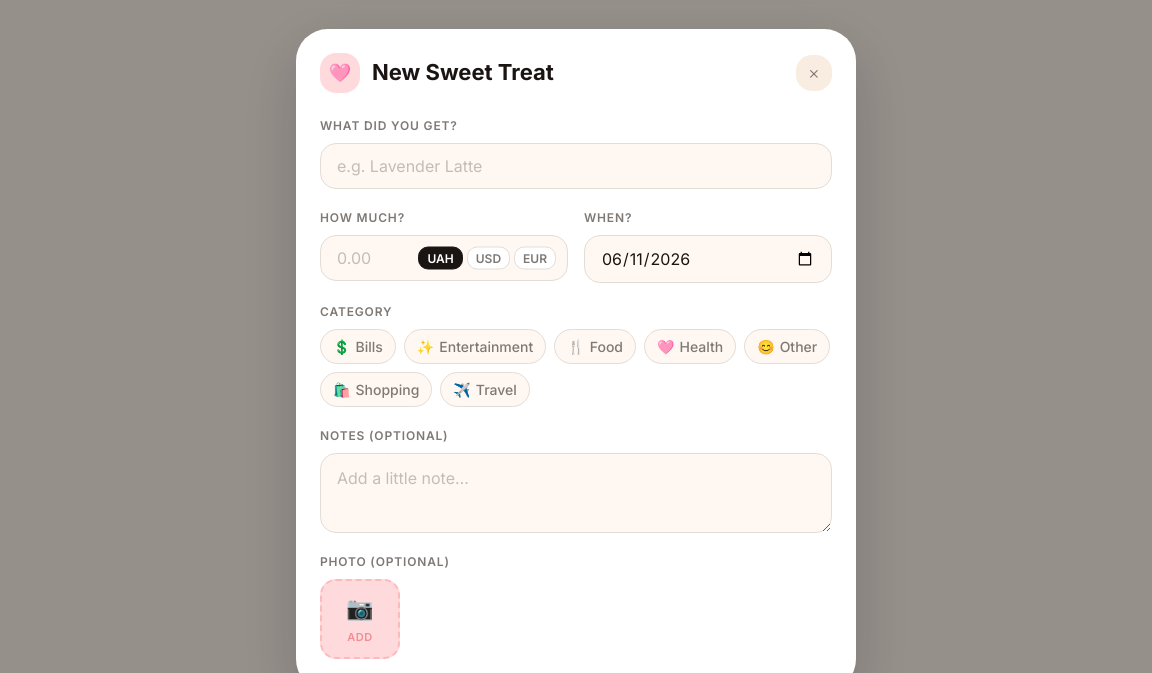
AddExpenseModal › shows validation error when amount is invalid
Type "Coffee" into the field labelled "What did you get?".
click(576, 166); type("Coffee")  # box [320,143,832,189]
(page scrolled)
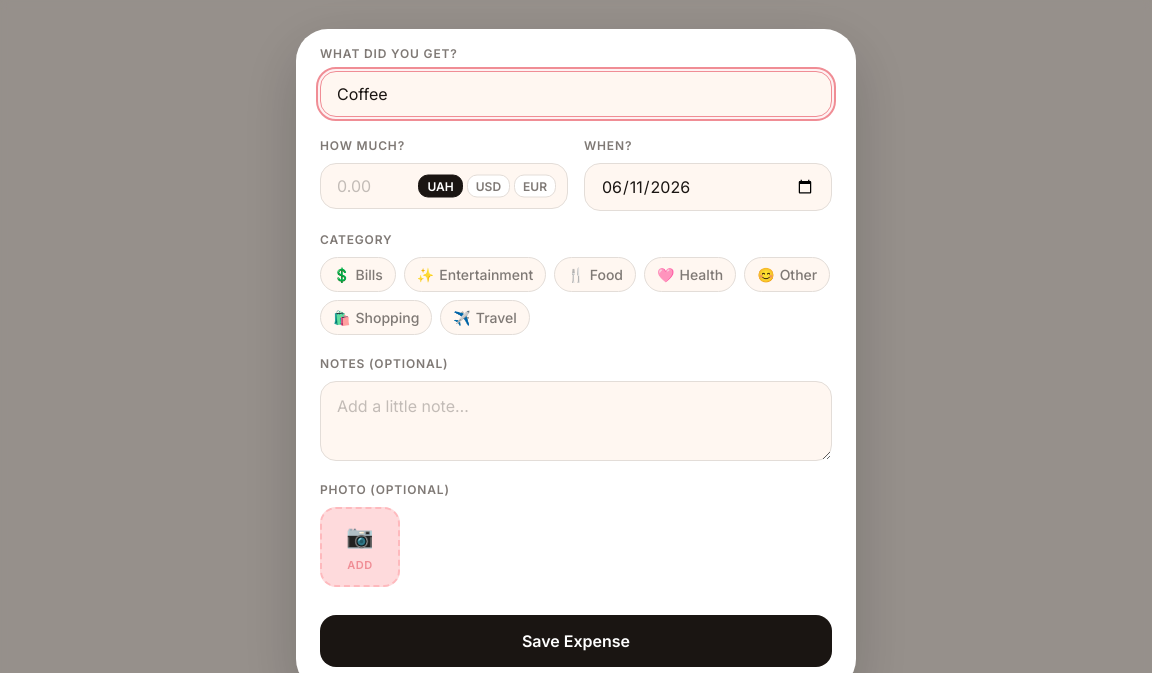
Click the button "Save Expense".
click(576, 641)  # box [320,615,832,667]
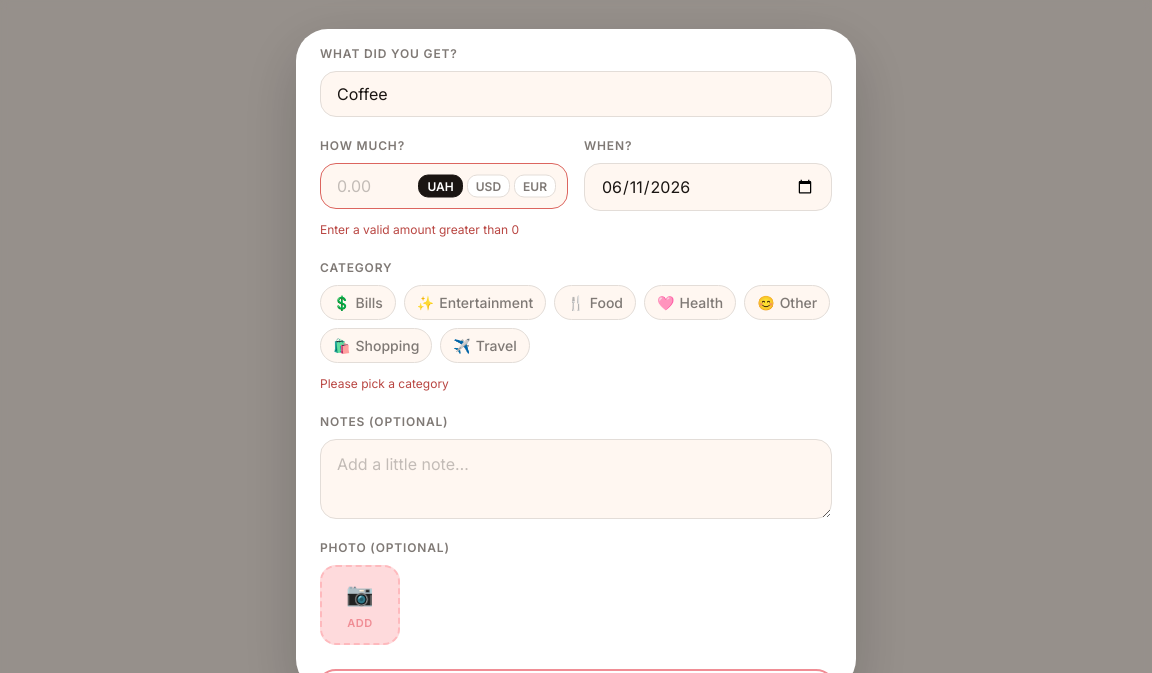
Check: the text "Enter a valid amount greater than 0" is shown, box [320,222,519,237]
